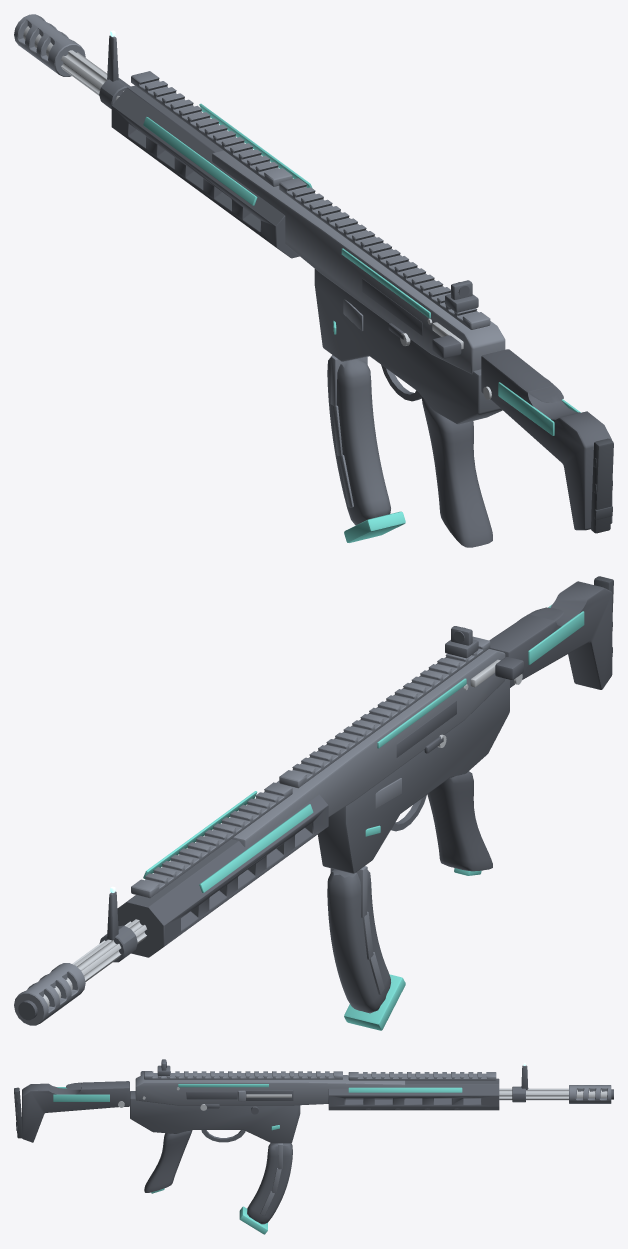
The model's file is weapon_rifle.glb.
3 views of the same model, one above another, from view 1: azimuth 30°, elevation 25°; view 2: azimuth 150°, elevation 25°; view 3: azimuth 270°, elevation 25° (orthographic). The views are drawn at different scales.
Parts seen in each view (by area): view 1: weapon_rifle_v3; view 2: weapon_rifle_v3; view 3: weapon_rifle_v3.
Part boxes in pixels (x1,y1,x2,y2): weapon_rifle_v3: (14, 14, 613, 547); weapon_rifle_v3: (14, 576, 613, 1030); weapon_rifle_v3: (14, 1059, 613, 1234).
Bounding box in the file's own units: 0.075 × 0.3286 × 1.06.
